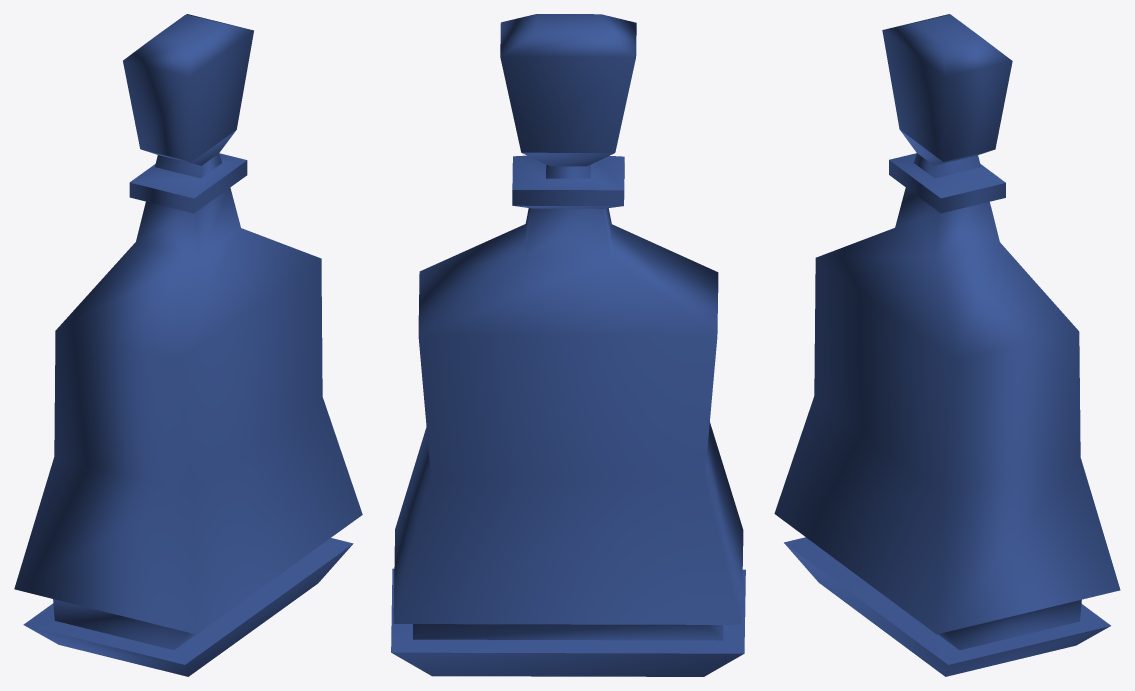
File: Bottle 1.fbx
The picture shows the model from 3 angles, left to right: view 1: azimuth 30°, elevation 25°; view 2: azimuth 150°, elevation 25°; view 3: azimuth 270°, elevation 25°; orthographic projection. The views are drawn at different scales.
Visible parts, largest first — view 1: T1_Bottle_01; view 2: T1_Bottle_01; view 3: T1_Bottle_01.
Boxes of the visible parts, box(x1,y1,x2,y2) form: T1_Bottle_01: box(14, 14, 362, 676); T1_Bottle_01: box(391, 14, 745, 676); T1_Bottle_01: box(774, 14, 1120, 676).
Size of the model in its own units: 13.23 by 21.85 by 11.74.
